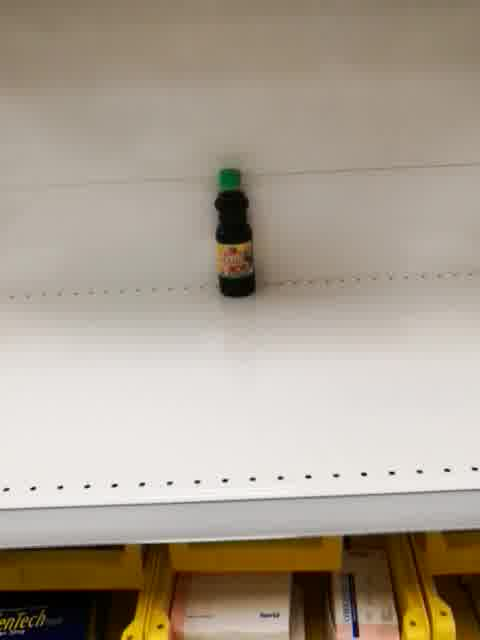cookingoil: (211, 166, 256, 299)
